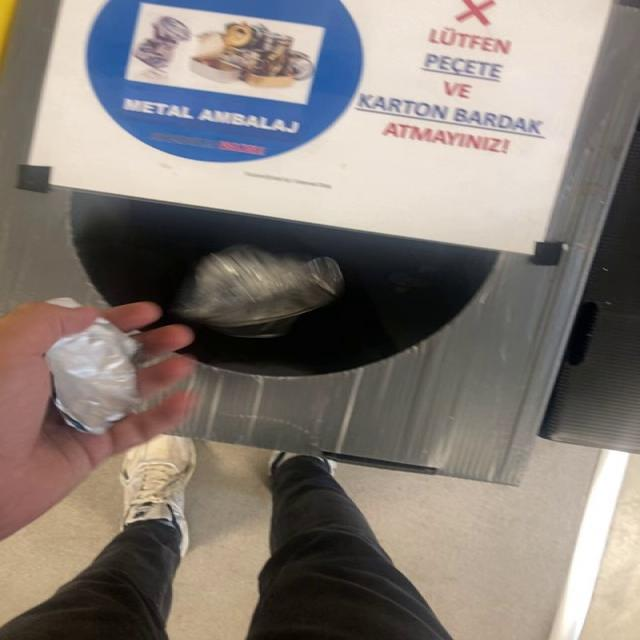metal: (172, 245, 344, 338)
